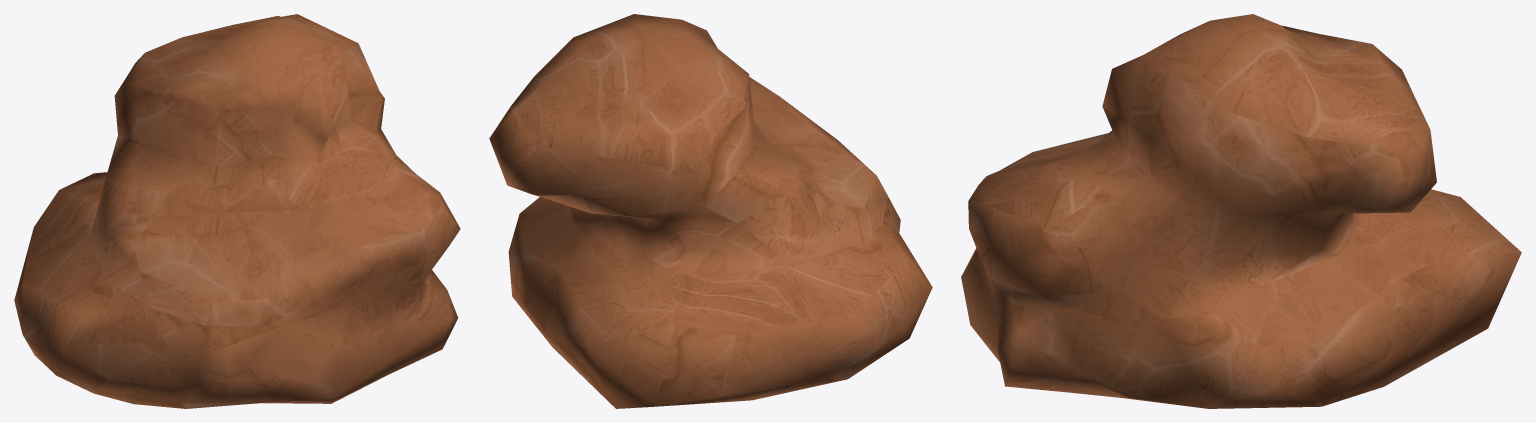
Rendered from ENV2110039.fbx.
The picture shows the model from 3 angles, left to right: view 1: azimuth 30°, elevation 25°; view 2: azimuth 150°, elevation 25°; view 3: azimuth 270°, elevation 25°; orthographic projection. The views are drawn at different scales.
Visible parts, largest first — view 1: smENV2110039; view 2: smENV2110039; view 3: smENV2110039.
Boxes of the visible parts, <box> form: smENV2110039: <box>14,14,460,408</box>; smENV2110039: <box>489,14,932,408</box>; smENV2110039: <box>961,14,1521,408</box>.
Bounding box in the file's own units: 212 × 164 × 231.
Materials: 1 (1 with a texture image).
